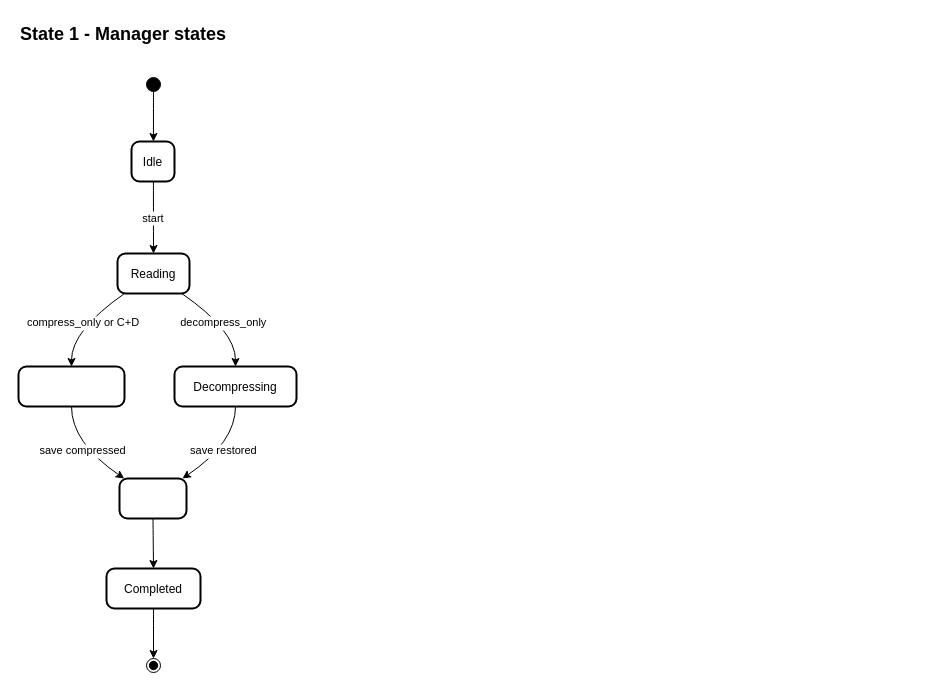
This 935x690 diagram has some shape labels left out. Here are the shapes that lost their labels. From the top down, the centre of each, then its label:
the point at 71,386: Compressing
the point at 152,498: Writing
